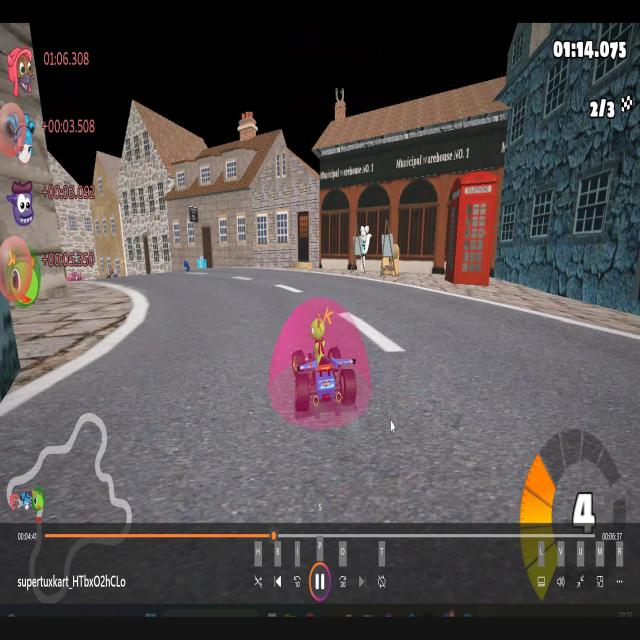player_kart: (272, 307, 372, 416)
track: (279, 421, 640, 526), (138, 298, 278, 524), (374, 281, 488, 418), (1, 418, 140, 526), (491, 350, 640, 425), (494, 309, 585, 351), (79, 366, 138, 417), (181, 272, 306, 294), (308, 275, 376, 304), (114, 272, 179, 294), (47, 383, 79, 416), (118, 341, 140, 363)
